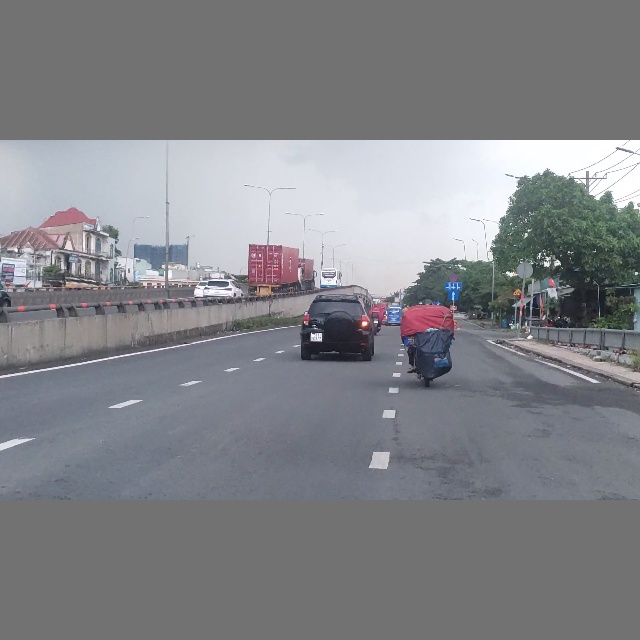I.407a: (448, 290, 459, 301)
P.130: (450, 275, 458, 282)
